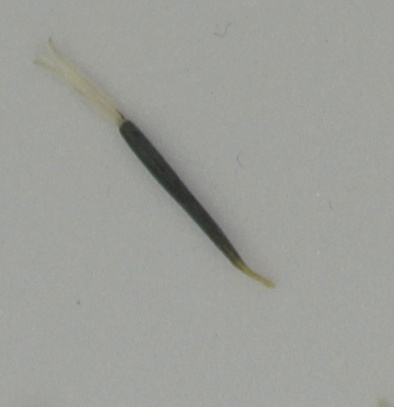เมล็ดดีเรียวยาว: (34, 38, 277, 289)
